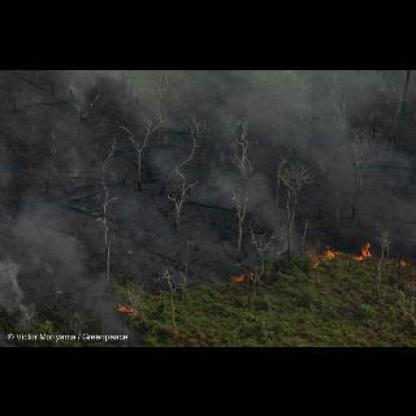fire: (314, 237, 382, 263)
